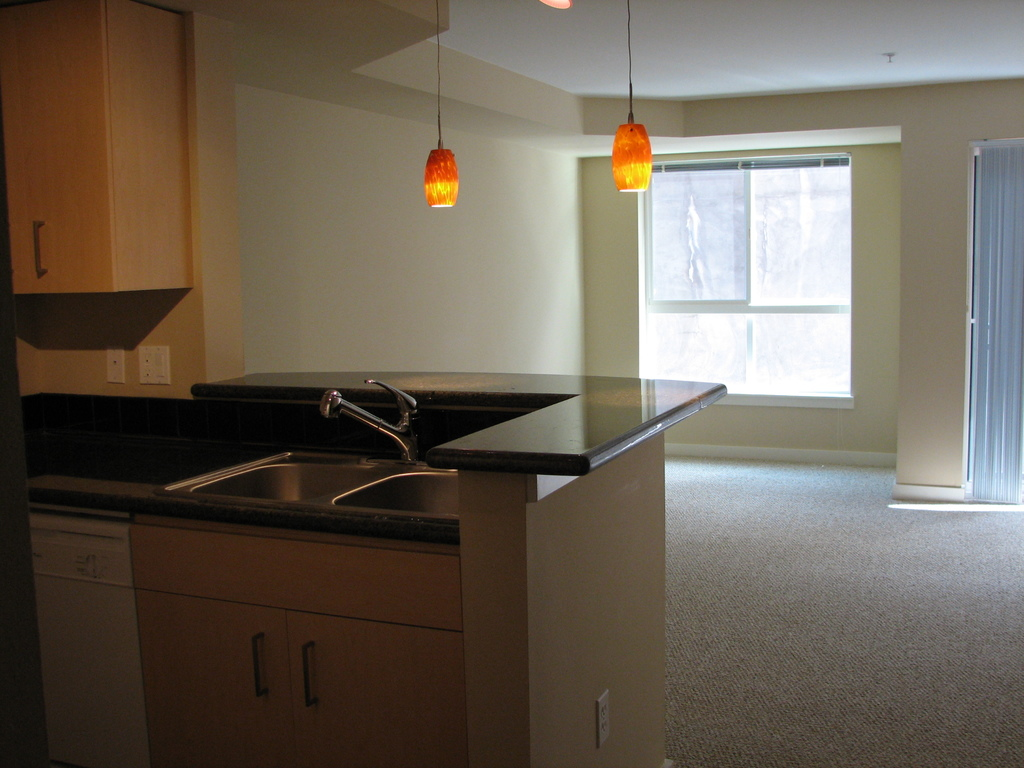Cabinetry: (18, 511, 472, 767), (0, 0, 199, 304)
